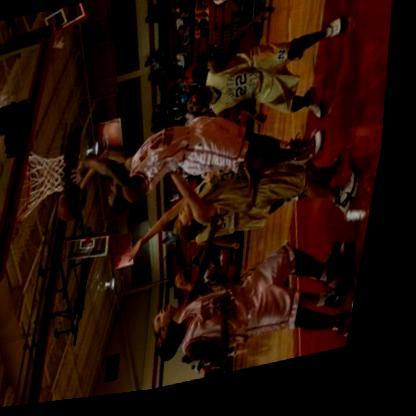basketball: (59, 183, 100, 226)
